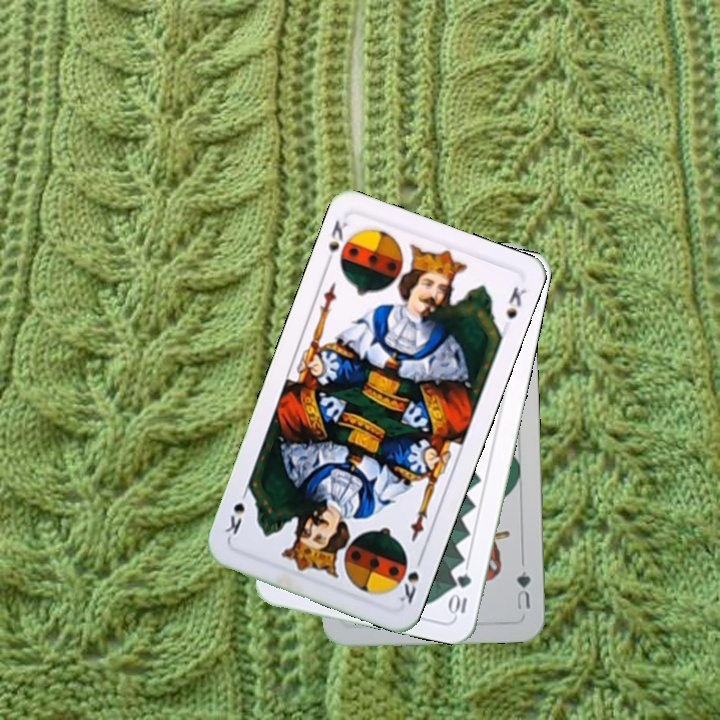G10: (445, 570, 474, 618)
GU: (513, 567, 533, 612)
SK: (395, 551, 426, 607), (321, 216, 351, 270)
